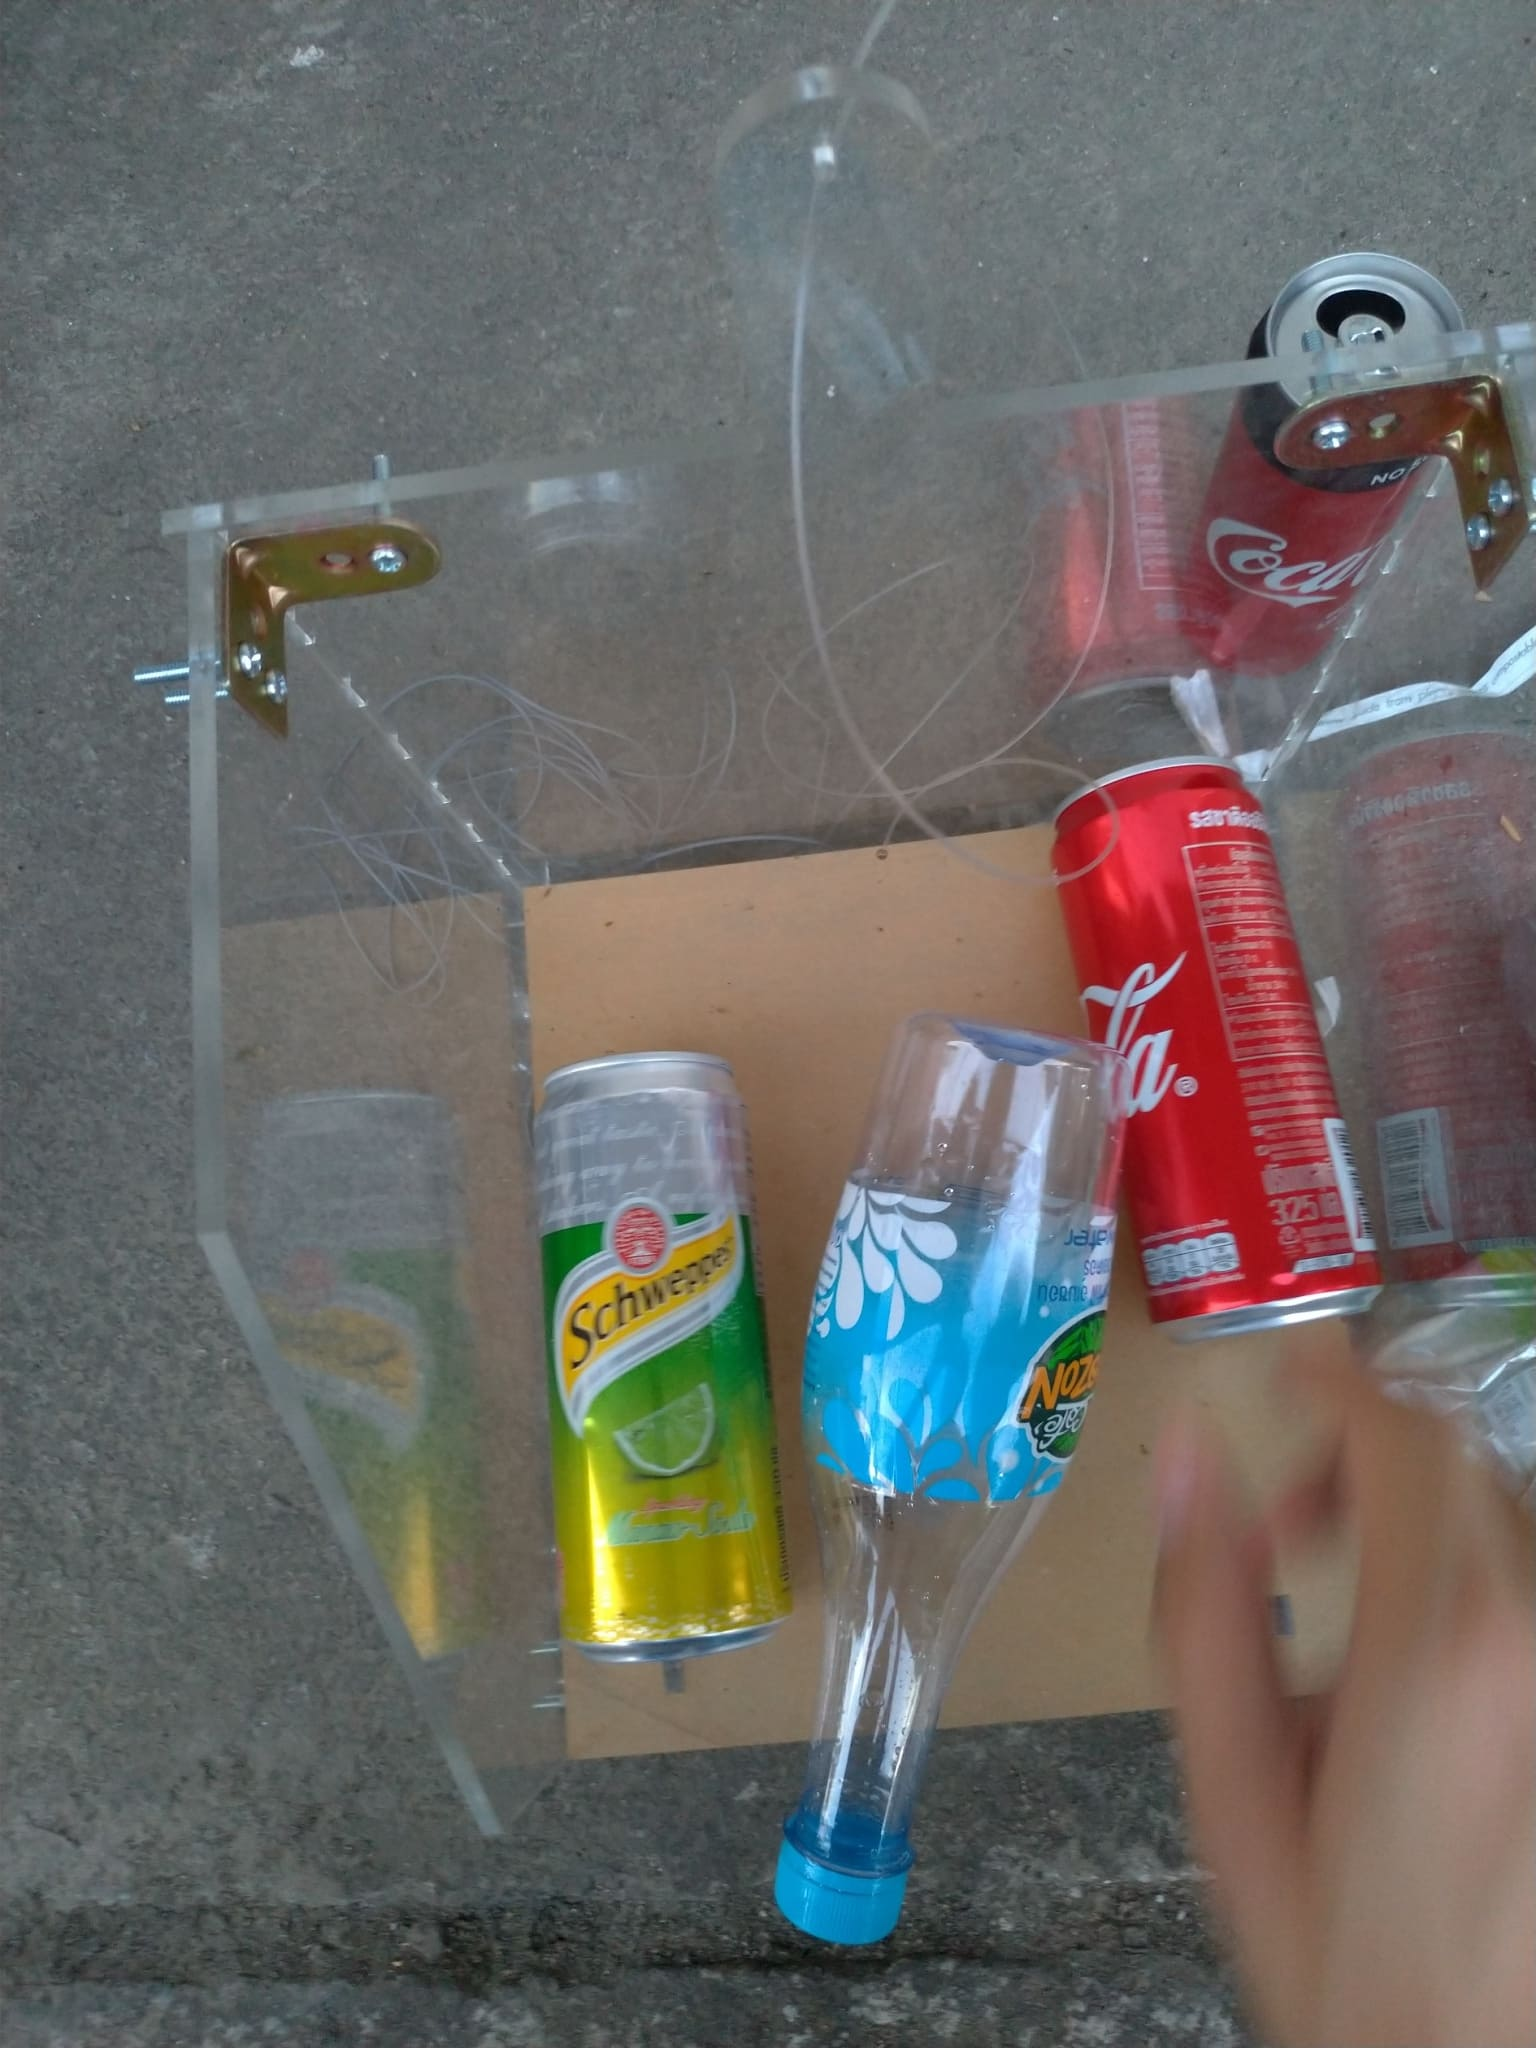AlCan: (1054, 748, 1383, 1342), (524, 1048, 792, 1671), (1196, 255, 1463, 684)
PlasticBottle: (773, 1016, 1115, 1948)
